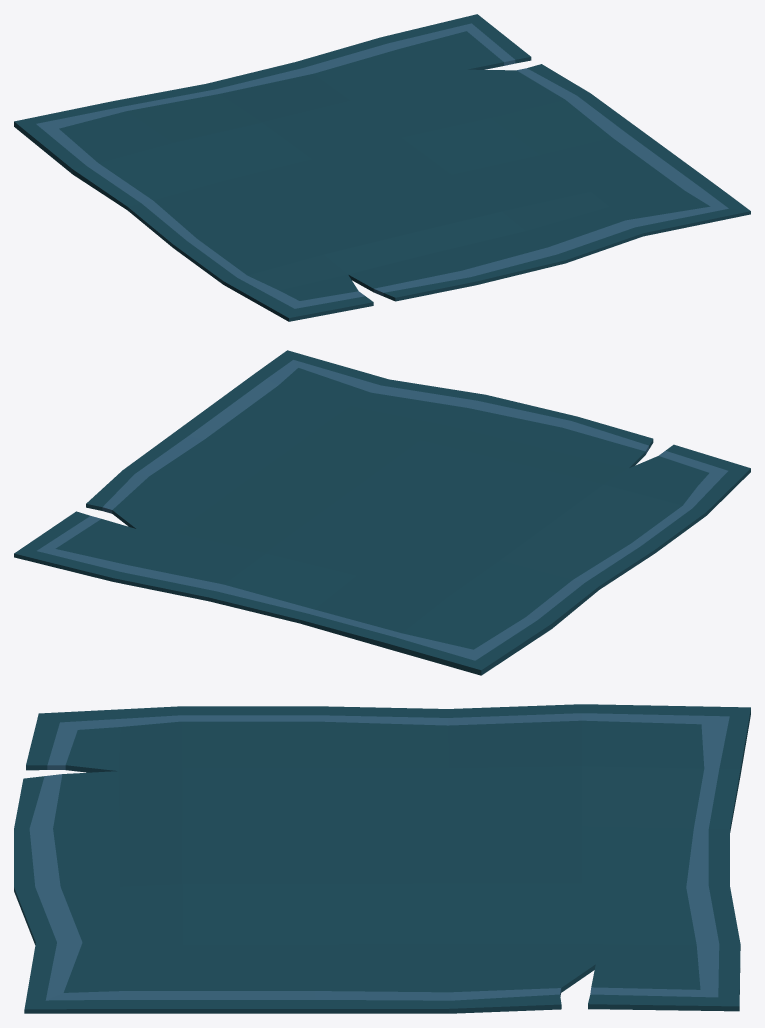
File: SM_Carpet_D.fbx
3 renders of one model, top to bottom at view 1: azimuth 30°, elevation 25°; view 2: azimuth 150°, elevation 25°; view 3: azimuth 270°, elevation 25°, orthographic. The views are drawn at different scales.
Parts seen in each view (by area): view 1: SM_Carpet_D; view 2: SM_Carpet_D; view 3: SM_Carpet_D.
Part boxes in pixels (x1,y1,x2,y2): SM_Carpet_D: (14, 14, 750, 321); SM_Carpet_D: (14, 350, 750, 675); SM_Carpet_D: (14, 704, 750, 1013).
Size of the model in its own units: 238 by 3.55 by 245.
